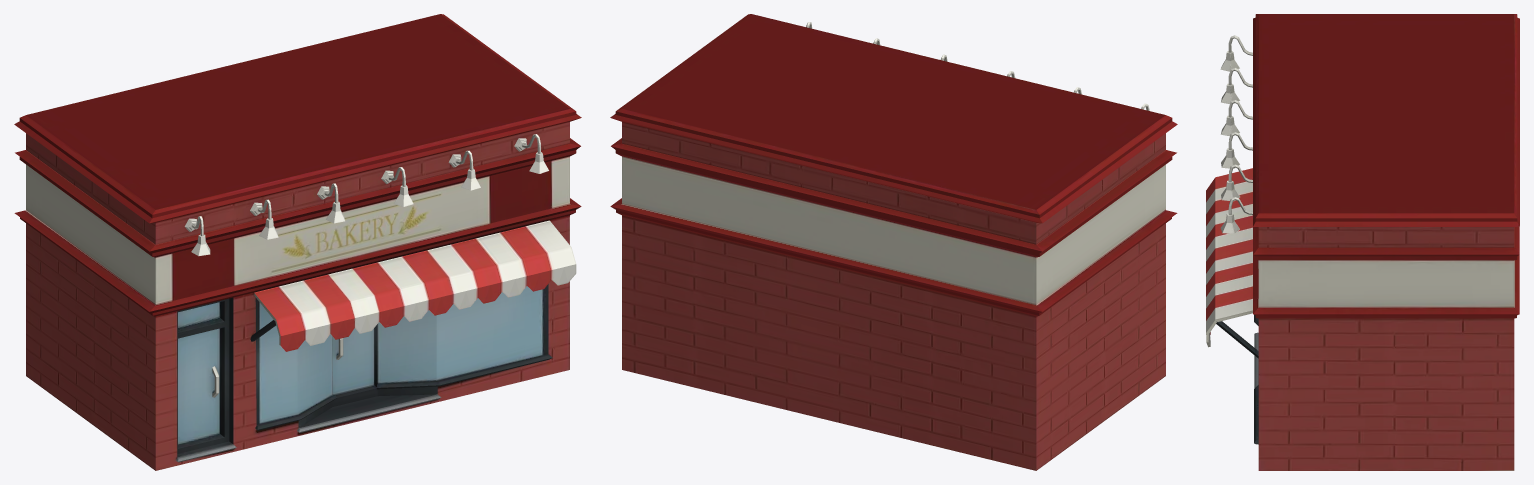
The model's file is bakery.glb.
3 views of the same model, side by side, from view 1: azimuth 30°, elevation 25°; view 2: azimuth 150°, elevation 25°; view 3: azimuth 270°, elevation 25° (orthographic).
Parts seen in each view (by area): view 1: Bakery_mesh; view 2: Bakery_mesh; view 3: Bakery_mesh.
Part boxes in pixels (x1,y1,x2,y2): Bakery_mesh: [14, 14, 581, 470]; Bakery_mesh: [610, 14, 1177, 470]; Bakery_mesh: [1206, 14, 1519, 470].
Size of the model in its own units: 19.26 by 11.1 by 12.26.
1 material, 1 textured.
